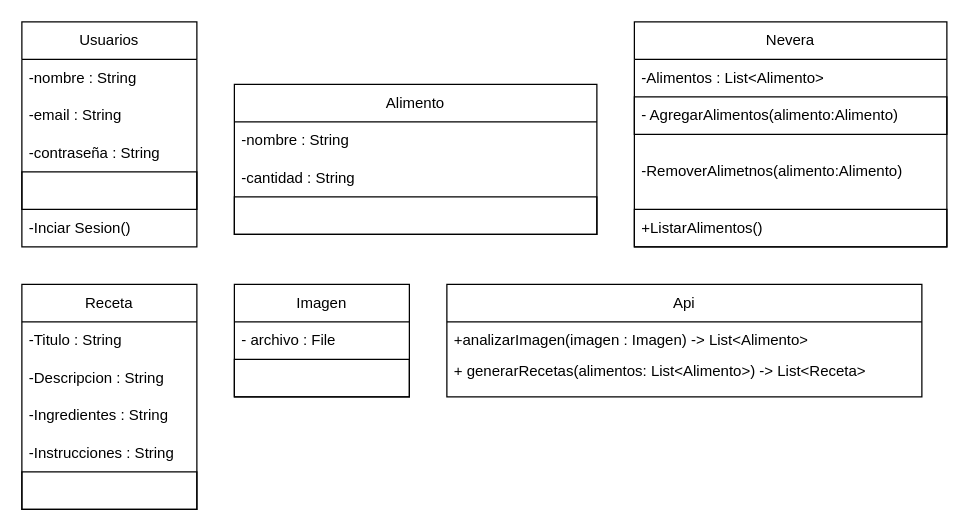
Image size: 969x531. Some labels were removed from this diagram. Each missing label, with the centre of its shape:
+ActualizarCantidad(cantidad:String): the point at 415,215
+capturarFoto(): the point at 321,377
+mostrarReceta(): the point at 109,490
+registrarse (): the point at 109,190
